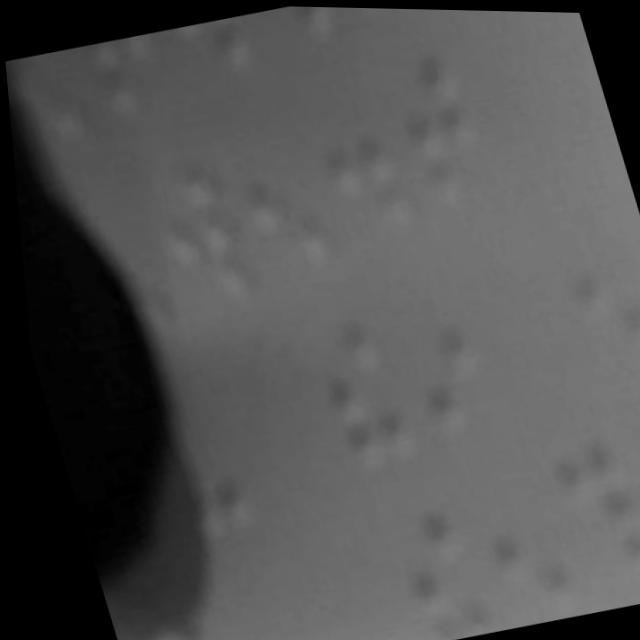braiile: (291, 292, 417, 482), (293, 67, 423, 245), (380, 260, 506, 439), (131, 141, 256, 315), (213, 105, 337, 278), (373, 31, 494, 202), (452, 444, 569, 614), (370, 481, 489, 640), (537, 430, 640, 578), (77, 30, 176, 125), (625, 394, 640, 546)
